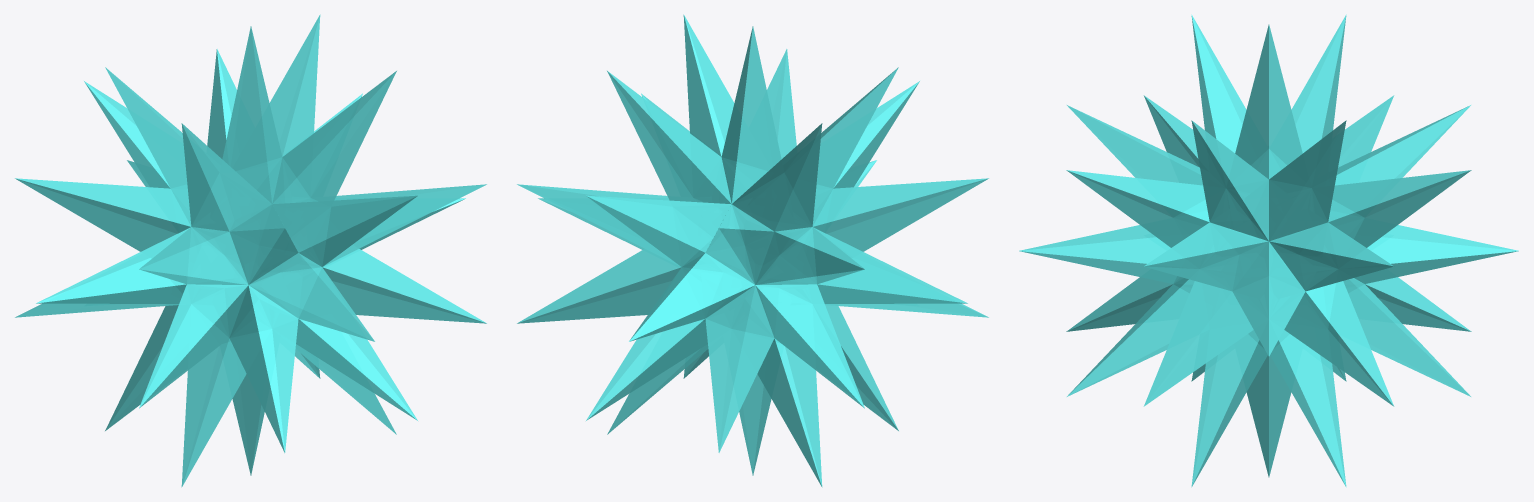
The model's file is GreatDeltoidalHexecontahedron.obj.
3 views of the same model, side by side, from view 1: azimuth 30°, elevation 25°; view 2: azimuth 150°, elevation 25°; view 3: azimuth 270°, elevation 25° (orthographic).
Bounding box in the file's own units: 4.47 × 4.47 × 4.47.
